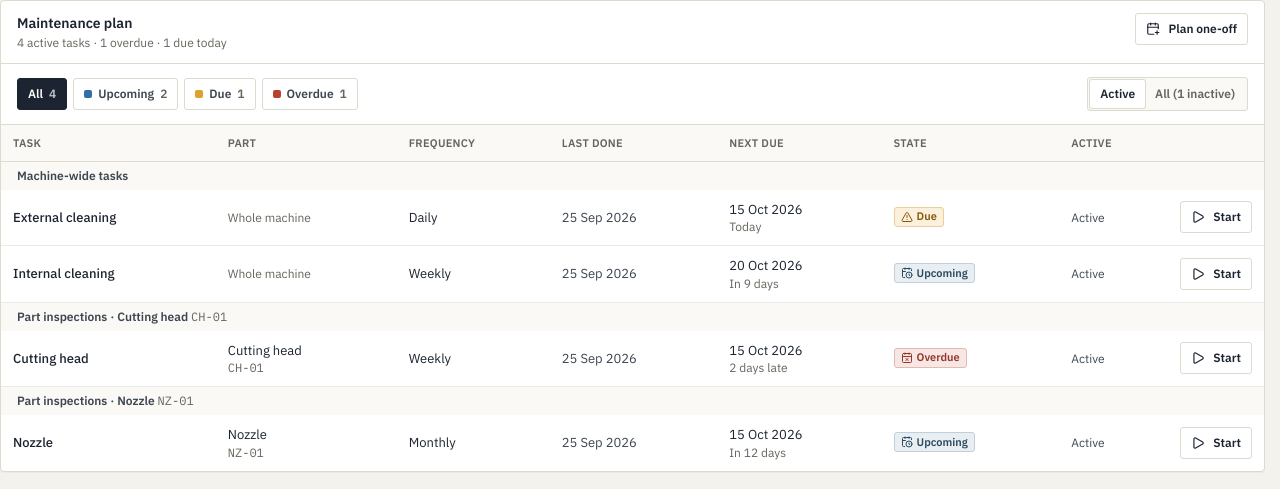
Test: Machine maintenance plan › filters by maintenance state
What coordinates should you click on to do the following:
click the radio button labelled "Overdue 1"
I would click on:
 (310, 94)
Its box is [262,78,358,110].
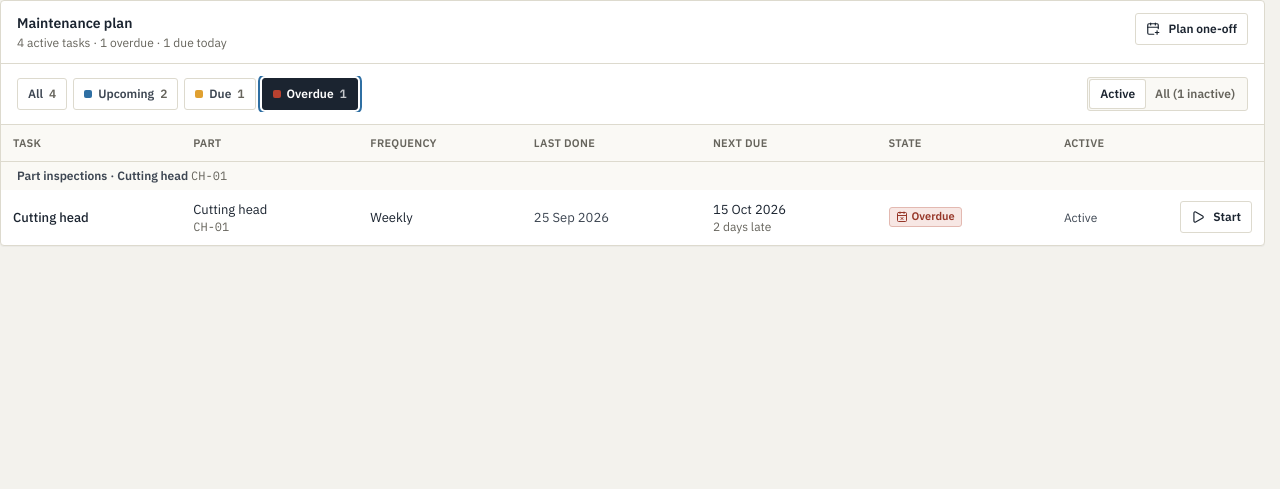
Expected: the 1st text "Cutting head" is shown, [13,208,89,227]
Result: the text "External cleaning" is gone
